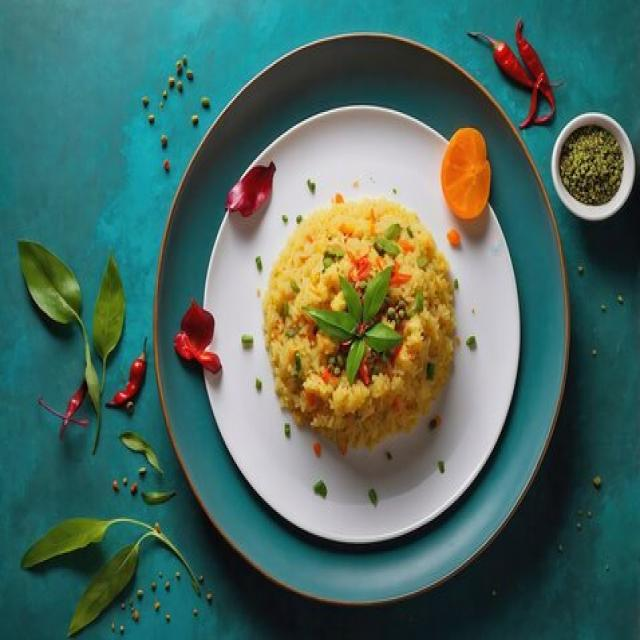UPMA: (264, 199, 458, 452)
